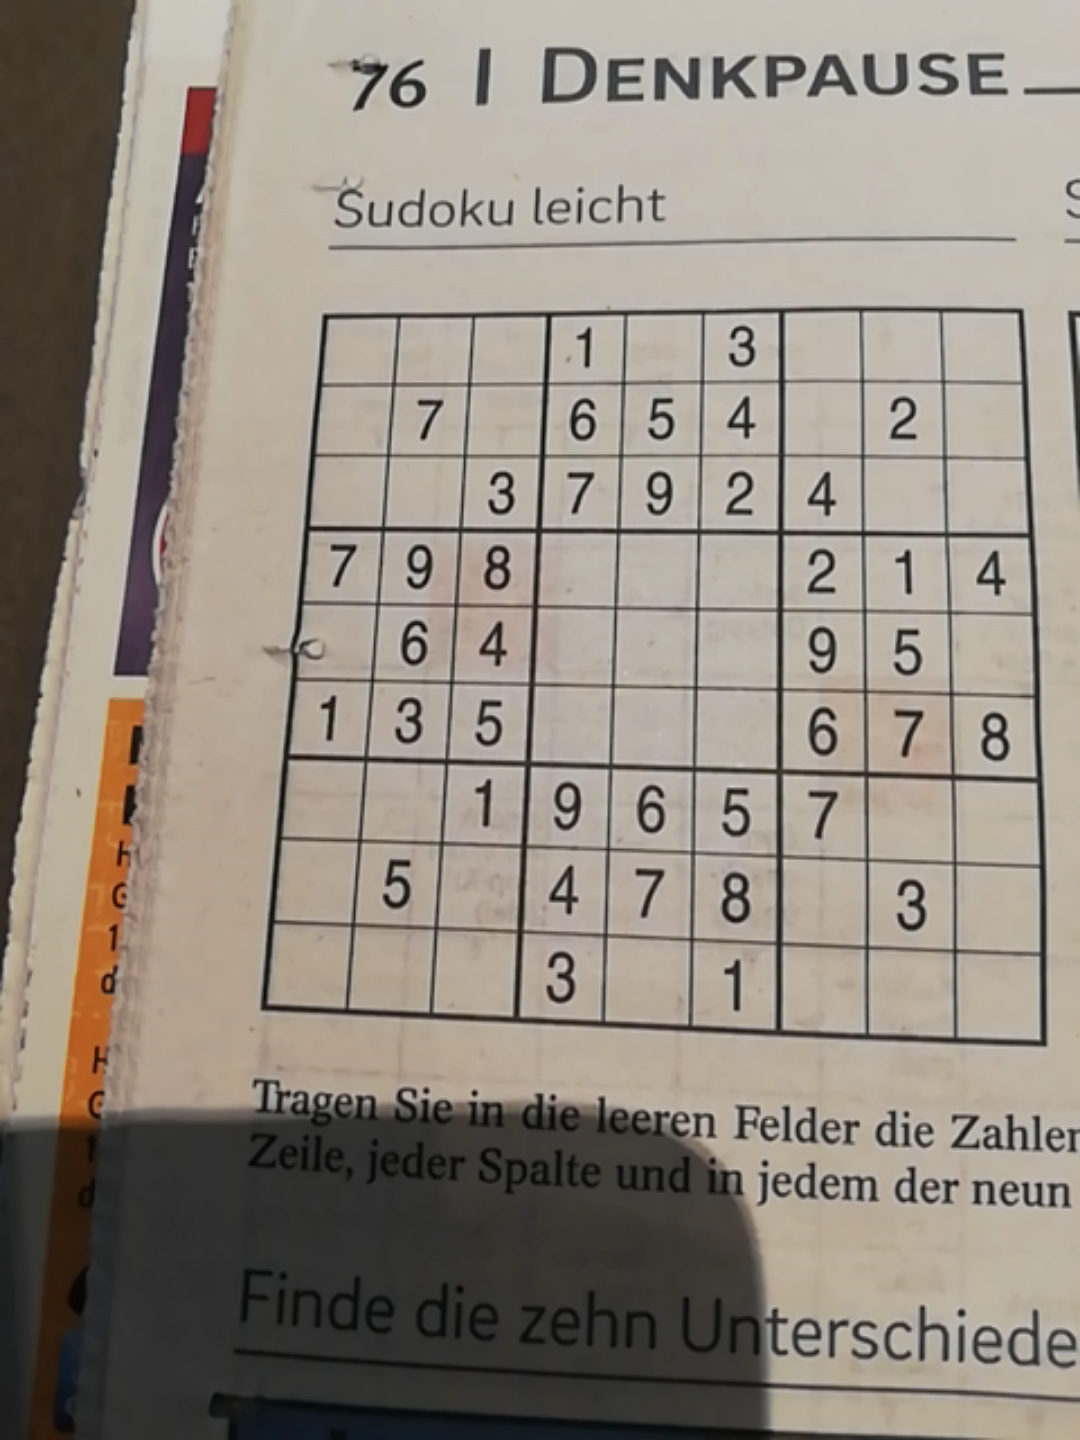sudoku: (261, 300, 1046, 1051)
